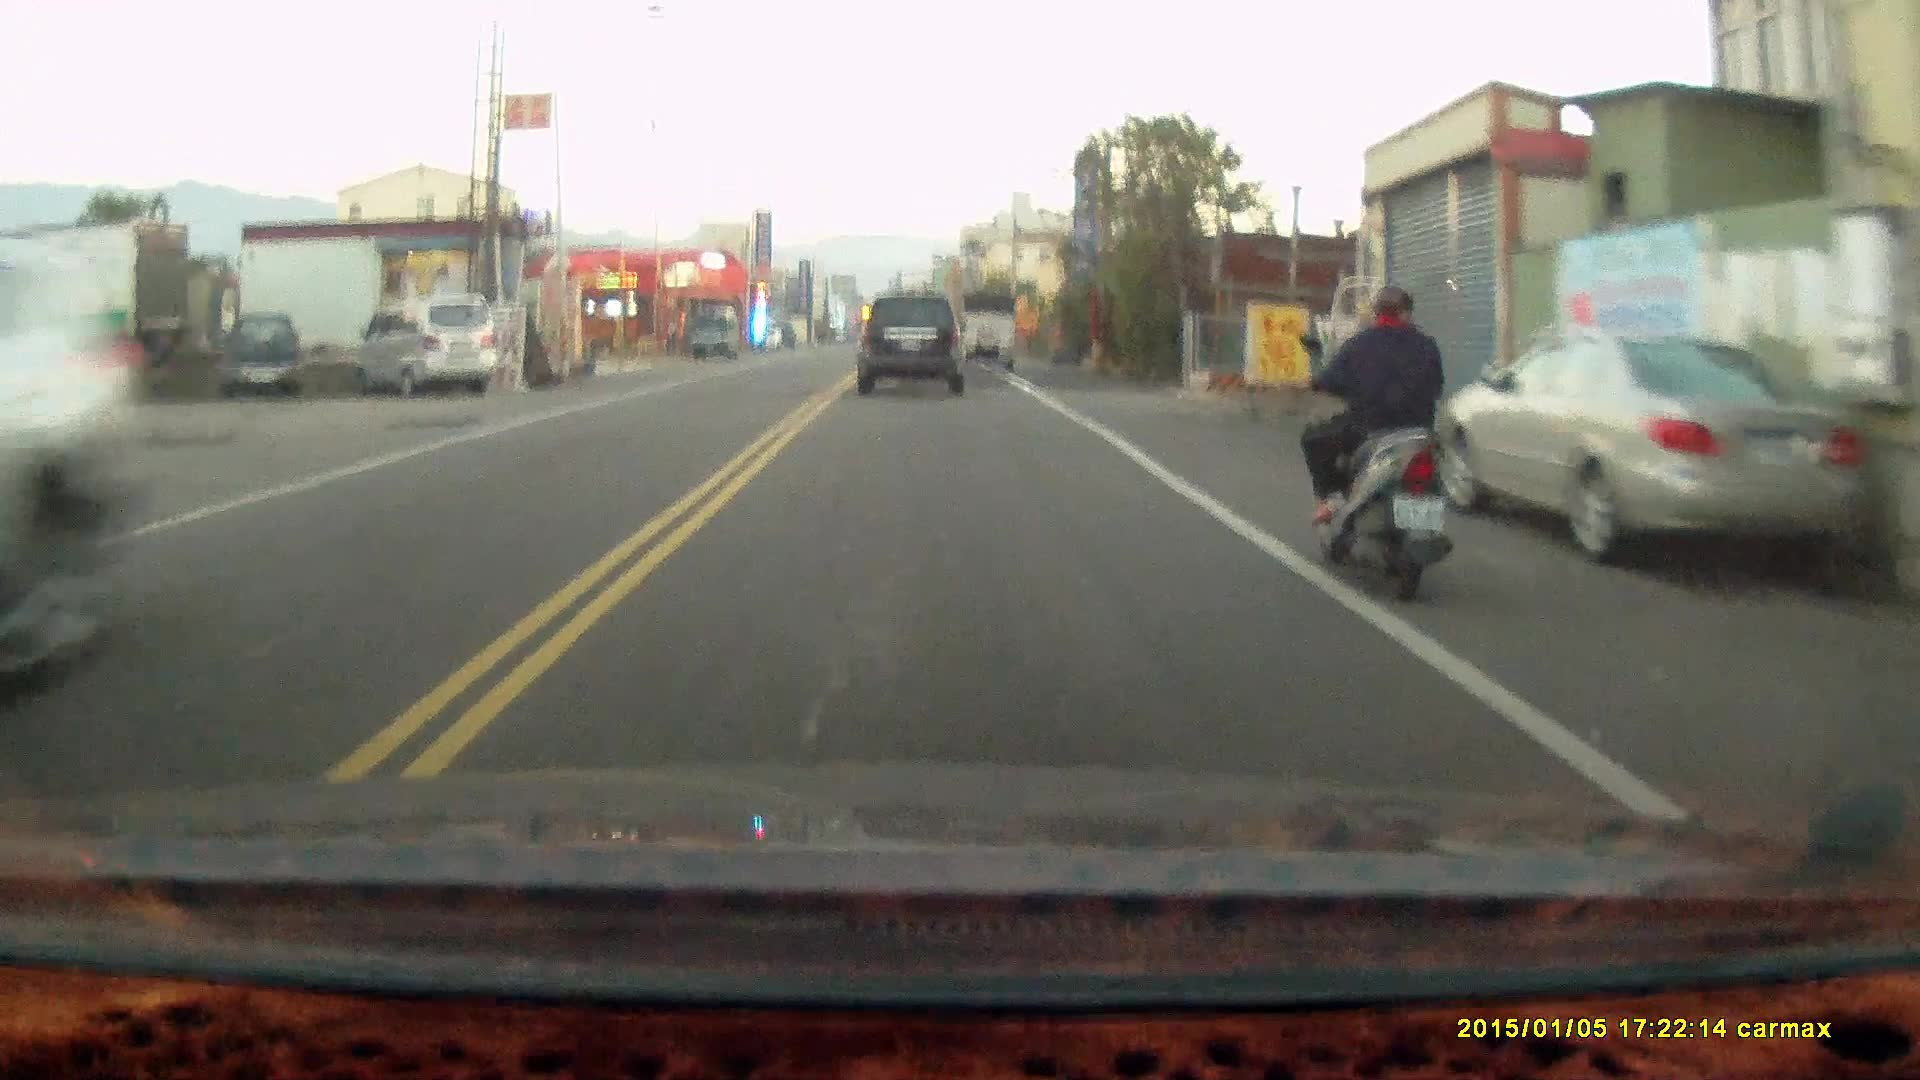rider: (1297, 264, 1453, 589)
vehicle: (1437, 326, 1868, 562), (1, 232, 150, 708), (358, 295, 500, 394), (855, 284, 973, 392), (221, 307, 303, 396), (959, 291, 1020, 370)
